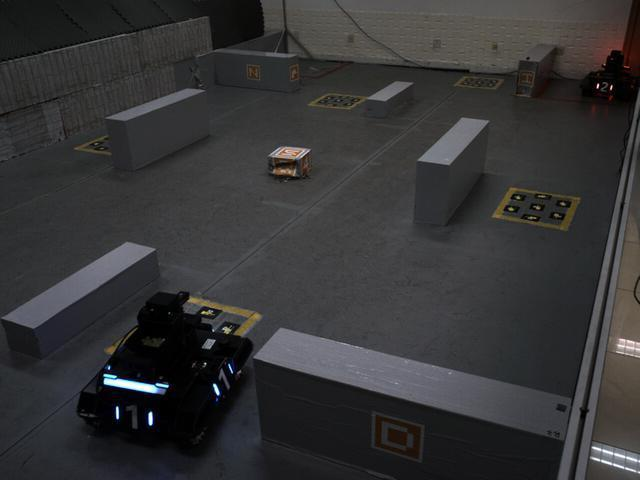armor: (110, 399, 158, 437), (206, 359, 236, 399), (591, 77, 616, 99)
